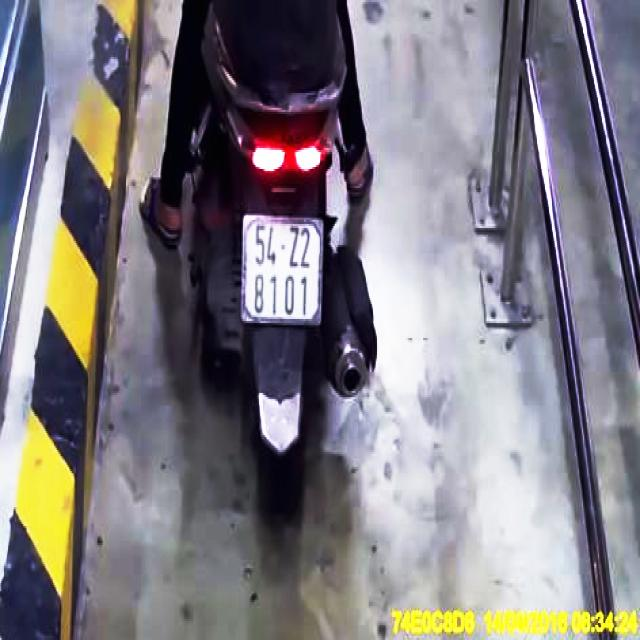license_plate: (243, 216, 324, 322)
